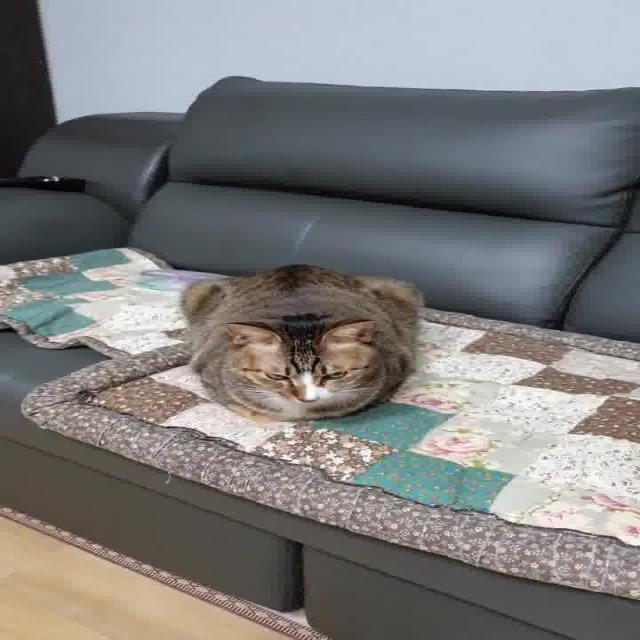cat: (164, 257, 444, 431)
